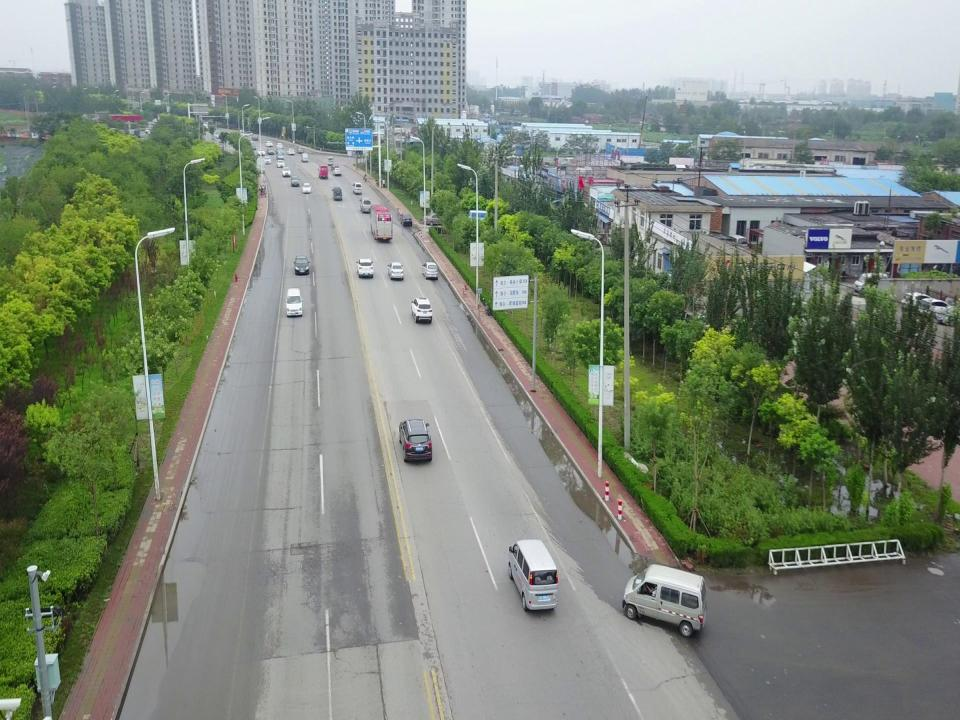bus: (368, 204, 392, 241)
car: (398, 420, 432, 464), (918, 296, 952, 319), (900, 292, 932, 314), (411, 297, 432, 323), (286, 289, 302, 317), (936, 306, 954, 326), (356, 258, 374, 278), (424, 213, 450, 226), (422, 262, 438, 281), (294, 255, 310, 274), (387, 262, 403, 279), (400, 213, 412, 226), (290, 175, 300, 187), (281, 167, 291, 177), (302, 183, 311, 192), (332, 167, 341, 176), (263, 156, 271, 164), (276, 153, 284, 161), (277, 160, 285, 167), (266, 148, 274, 155), (275, 148, 283, 155), (287, 148, 295, 155), (331, 163, 339, 170), (257, 149, 265, 155), (265, 142, 273, 148), (296, 147, 304, 153), (275, 143, 283, 148)
van: (622, 564, 706, 638), (507, 539, 558, 613), (854, 272, 888, 297), (724, 234, 750, 257), (469, 212, 495, 228), (359, 197, 371, 213), (332, 186, 342, 200), (318, 164, 328, 178), (352, 182, 362, 195), (300, 152, 308, 163), (328, 157, 334, 165)
